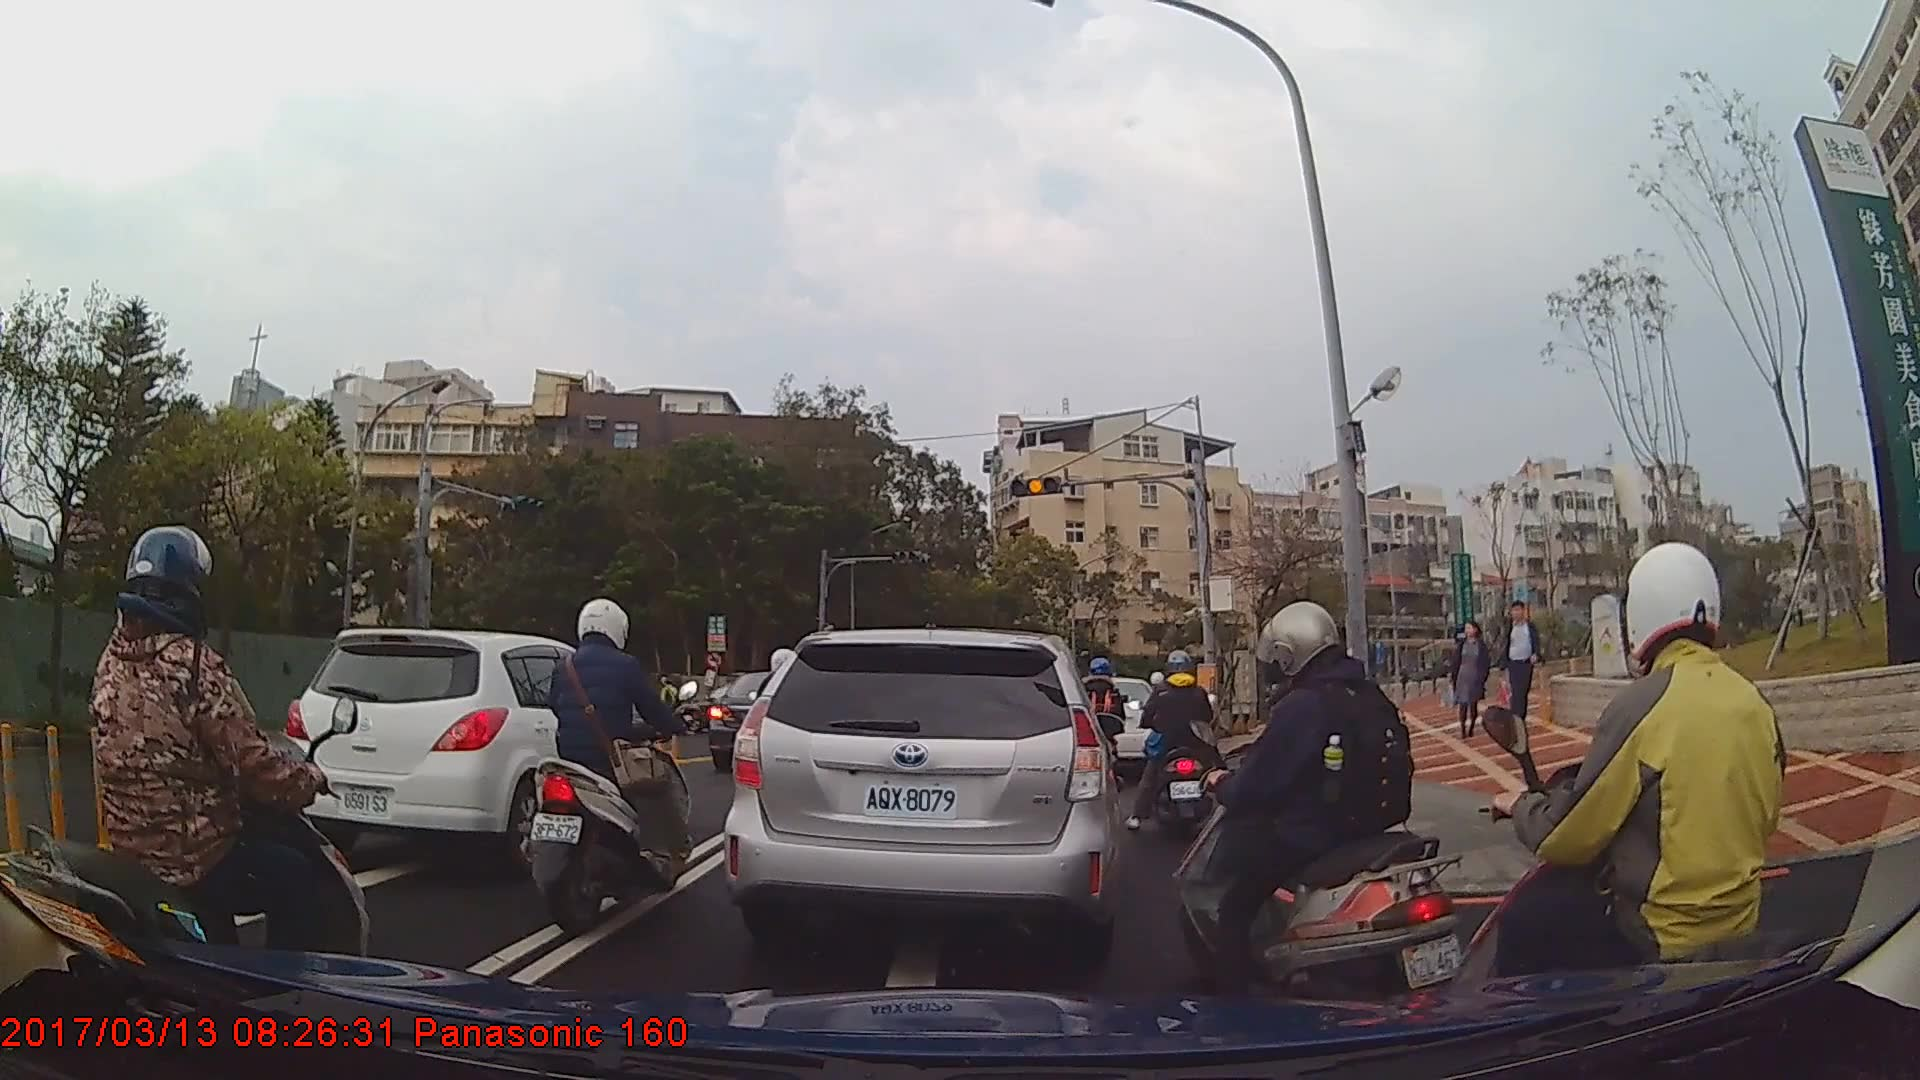pedestrian: (1496, 602, 1543, 744), (1447, 622, 1492, 742)
rider: (1433, 547, 1862, 1077), (4, 520, 373, 1014), (1169, 600, 1471, 1016), (524, 598, 698, 939), (1134, 642, 1238, 852), (1064, 659, 1129, 800)
vehicle: (722, 627, 1120, 957), (283, 626, 657, 863), (707, 671, 829, 774), (1066, 675, 1167, 777)
